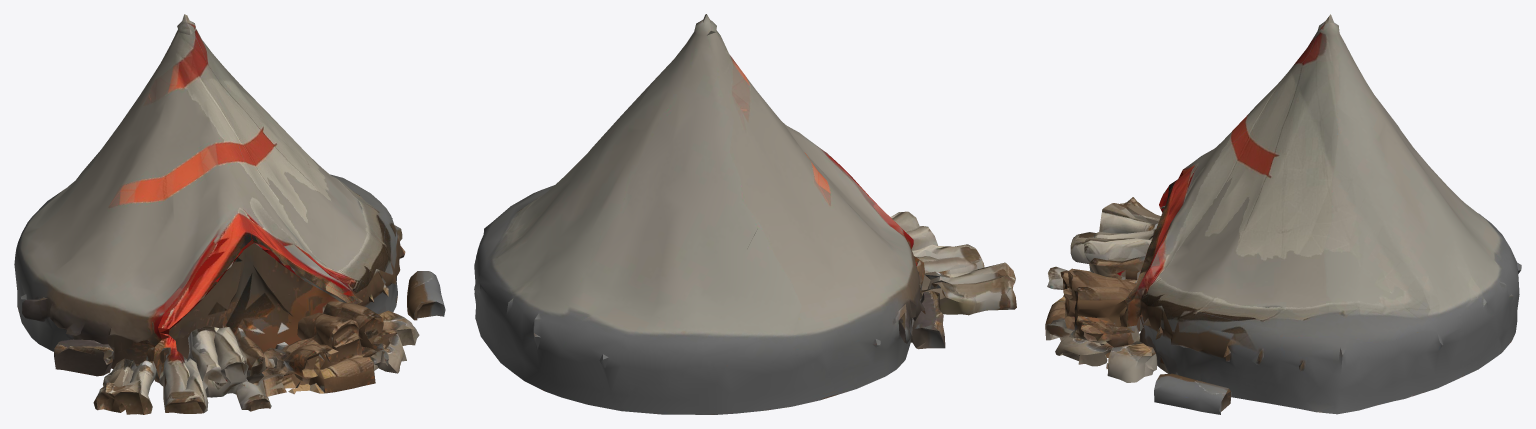
File: etiopia_corte_nueva.glb
3 renders of one model, left to right at view 1: azimuth 30°, elevation 25°; view 2: azimuth 150°, elevation 25°; view 3: azimuth 270°, elevation 25°, orthographic. The views are drawn at different scales.
Parts seen in each view (by area): view 1: geometry_0; view 2: geometry_0; view 3: geometry_0.
Part boxes in pixels (<box>): geometry_0: <box>14,14,445,414</box>; geometry_0: <box>474,14,1016,414</box>; geometry_0: <box>1045,14,1521,414</box>.
Size of the model in its own units: 3.31 by 2.35 by 3.4.
1 material, 1 textured.
